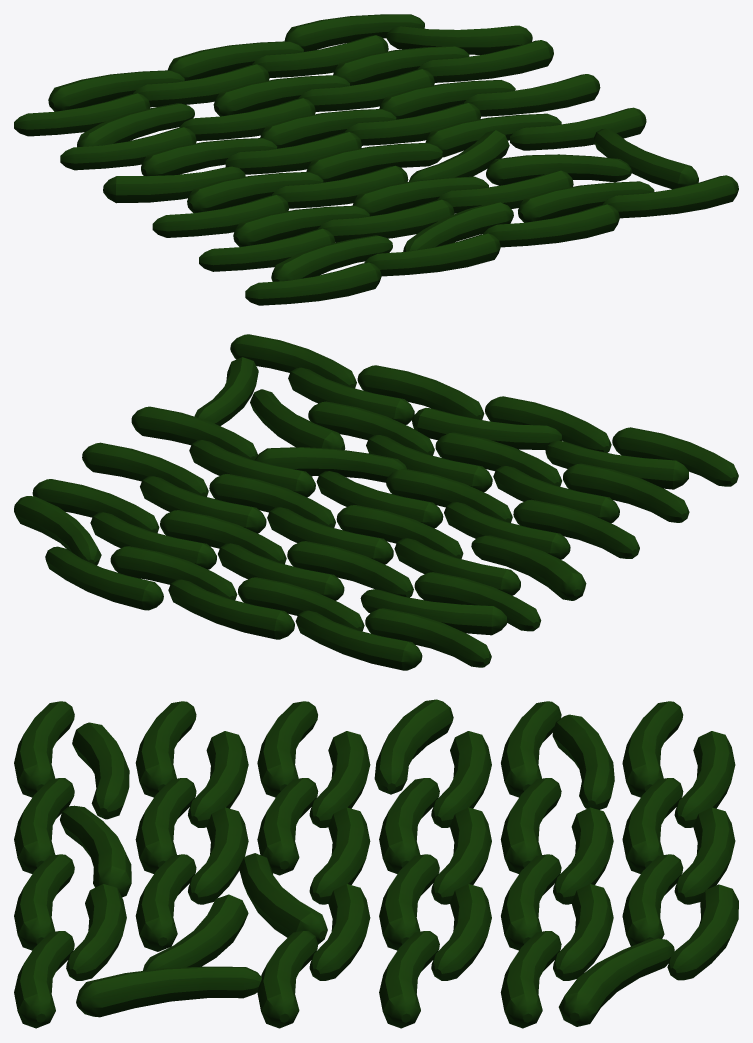
Rendered from FBX_Cucumber.fbx.
3 renders of one model, top to bottom at view 1: azimuth 30°, elevation 25°; view 2: azimuth 150°, elevation 25°; view 3: azimuth 270°, elevation 25°, orthographic. The views are drawn at different scales.
Parts seen in each view (by area): view 1: M_Cucumber; view 2: M_Cucumber; view 3: M_Cucumber.
Part boxes in pixels (<box>): M_Cucumber: <box>14,14,738,305</box>; M_Cucumber: <box>14,334,738,670</box>; M_Cucumber: <box>14,699,738,1028</box>.
Bounding box in the file's own units: 0.7832 × 0.0436 × 0.7741.
